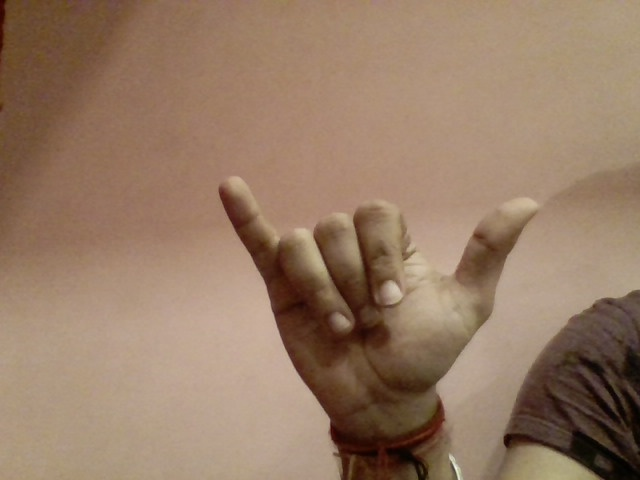y: (199, 155, 550, 399)
